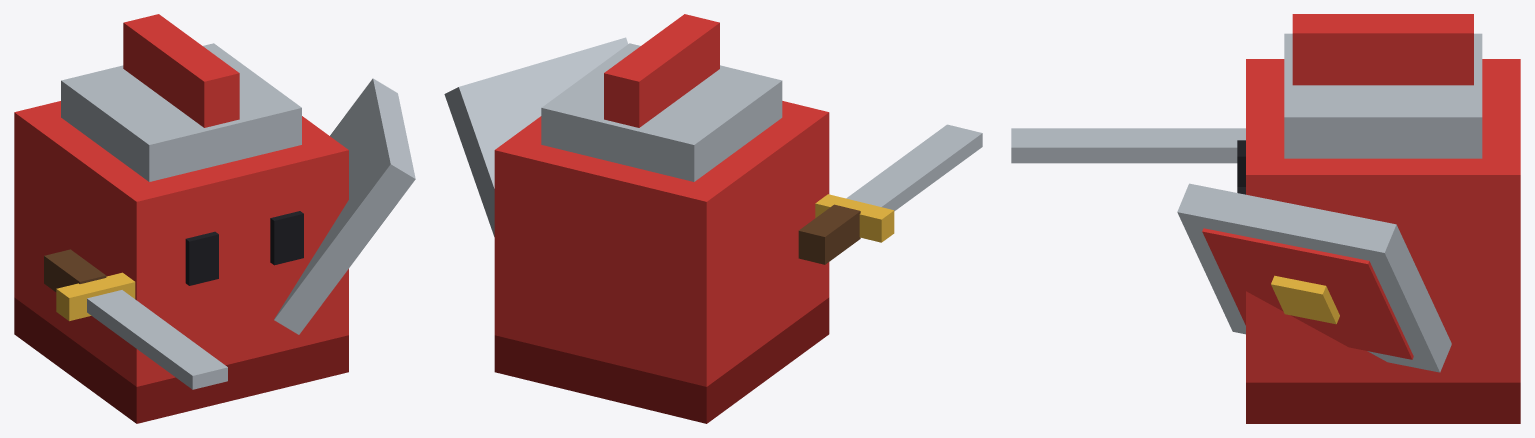
File: infantry_red.fbx
3 views of the same model, side by side, from view 1: azimuth 30°, elevation 25°; view 2: azimuth 150°, elevation 25°; view 3: azimuth 270°, elevation 25° (orthographic). The views are drawn at different scales.
Parts seen in each view (by area): view 1: infantry_red; view 2: infantry_red; view 3: infantry_red.
Boxes of the visible parts, <box> form: infantry_red: <box>14,14,415,423</box>; infantry_red: <box>444,14,982,423</box>; infantry_red: <box>1011,14,1520,423</box>.
Size of the model in its own units: 0.8808 by 0.66 by 0.89.
